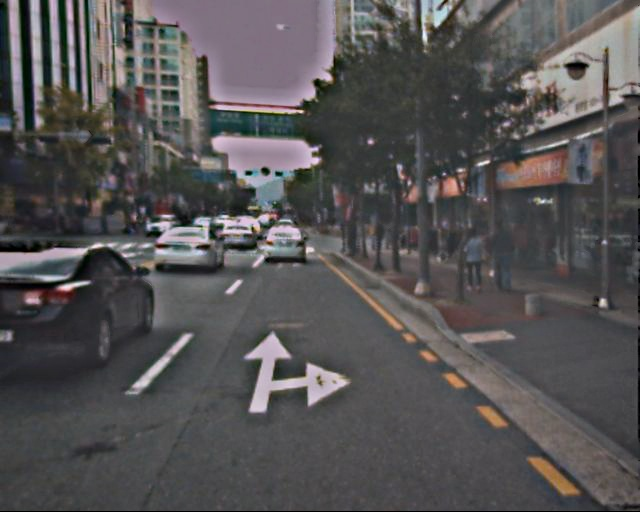person: (483, 217, 515, 295), (458, 227, 485, 294)
